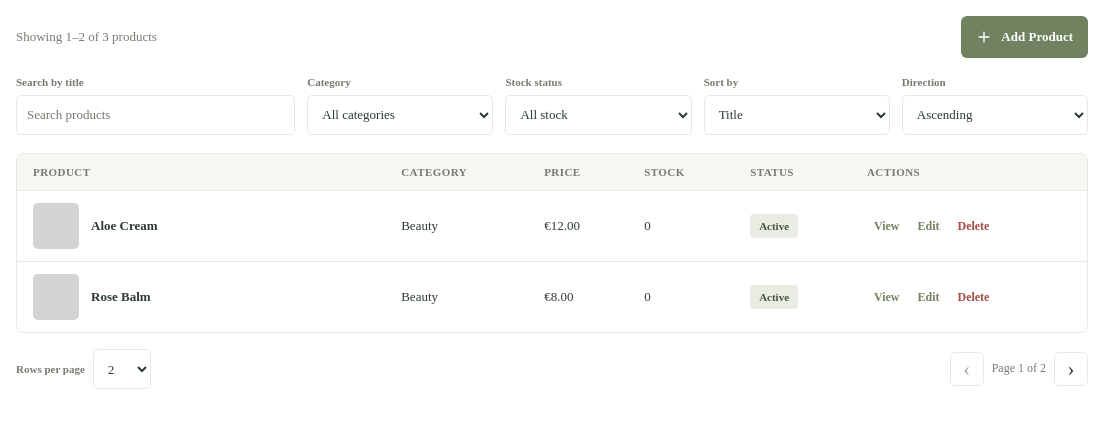
Test case: Products workflows › requires delete confirmation and removes only after confirmation
Expected: the text "Aloe Cream" is shown, [91, 217, 158, 235]
Click the button with aria-label "Delete Aloe Cream". click: (974, 226)
box: [950, 210, 996, 242]
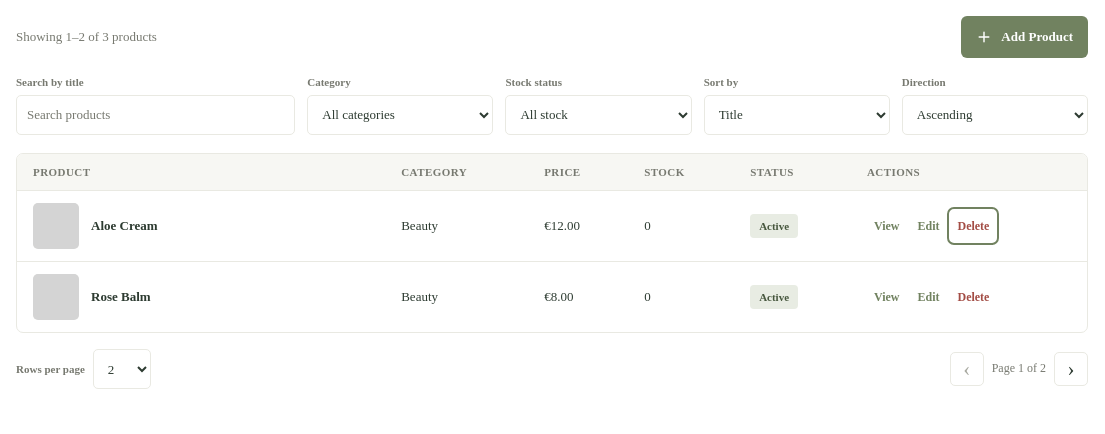
Expected: the text "Aloe Cream" is shown, [91, 217, 158, 235]
Click the button with aria-label "Delete Aloe Cream". click: (974, 226)
box: [950, 210, 996, 242]
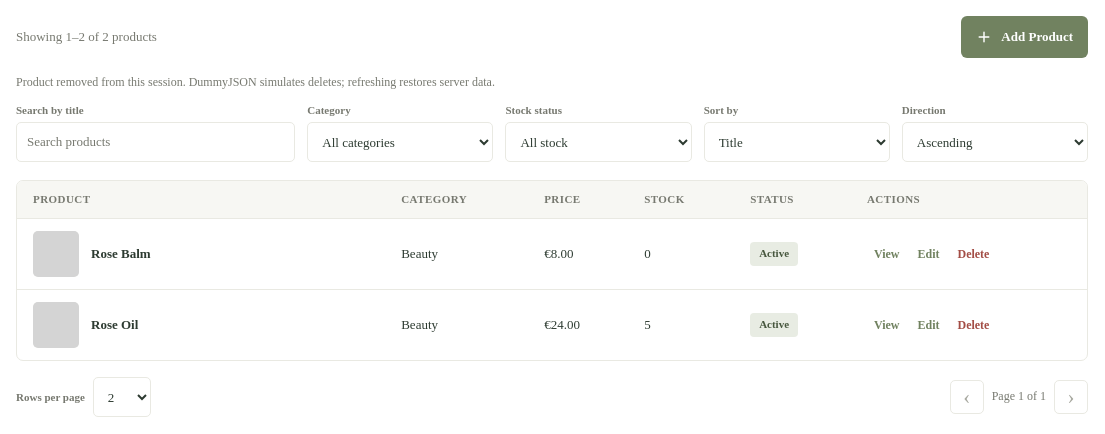
Result: the row "Rose Oil Beauty €24.00 5 Active View Edit Delete" is shown at [17, 290, 1087, 360]
Result: the text "Aloe Cream" is gone
